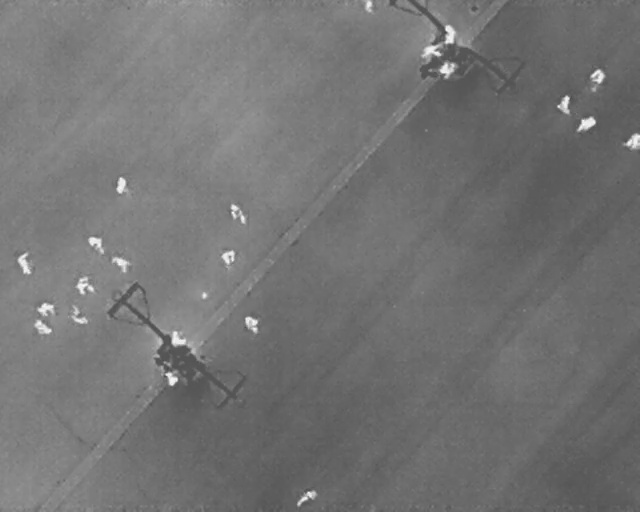Person: (13, 249, 39, 279), (107, 250, 133, 276), (572, 112, 599, 136), (85, 232, 110, 257), (240, 312, 264, 337), (293, 487, 320, 509), (435, 58, 457, 82), (229, 201, 247, 225), (69, 306, 89, 326), (75, 276, 94, 295), (32, 319, 53, 335), (557, 93, 571, 115), (621, 133, 639, 150), (589, 68, 605, 86), (170, 331, 188, 347), (115, 176, 128, 196), (421, 44, 441, 57), (37, 303, 57, 316), (219, 250, 236, 265), (443, 24, 455, 43), (164, 372, 179, 386), (364, 1, 376, 14)
